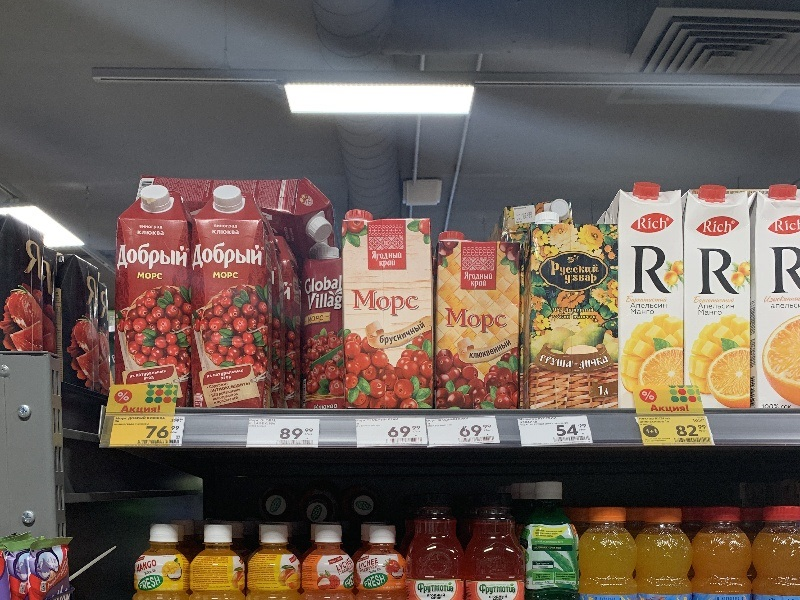juice: (99, 182, 203, 418), (184, 187, 284, 417), (333, 206, 441, 418), (680, 180, 764, 414), (613, 180, 694, 419), (430, 227, 528, 416)
